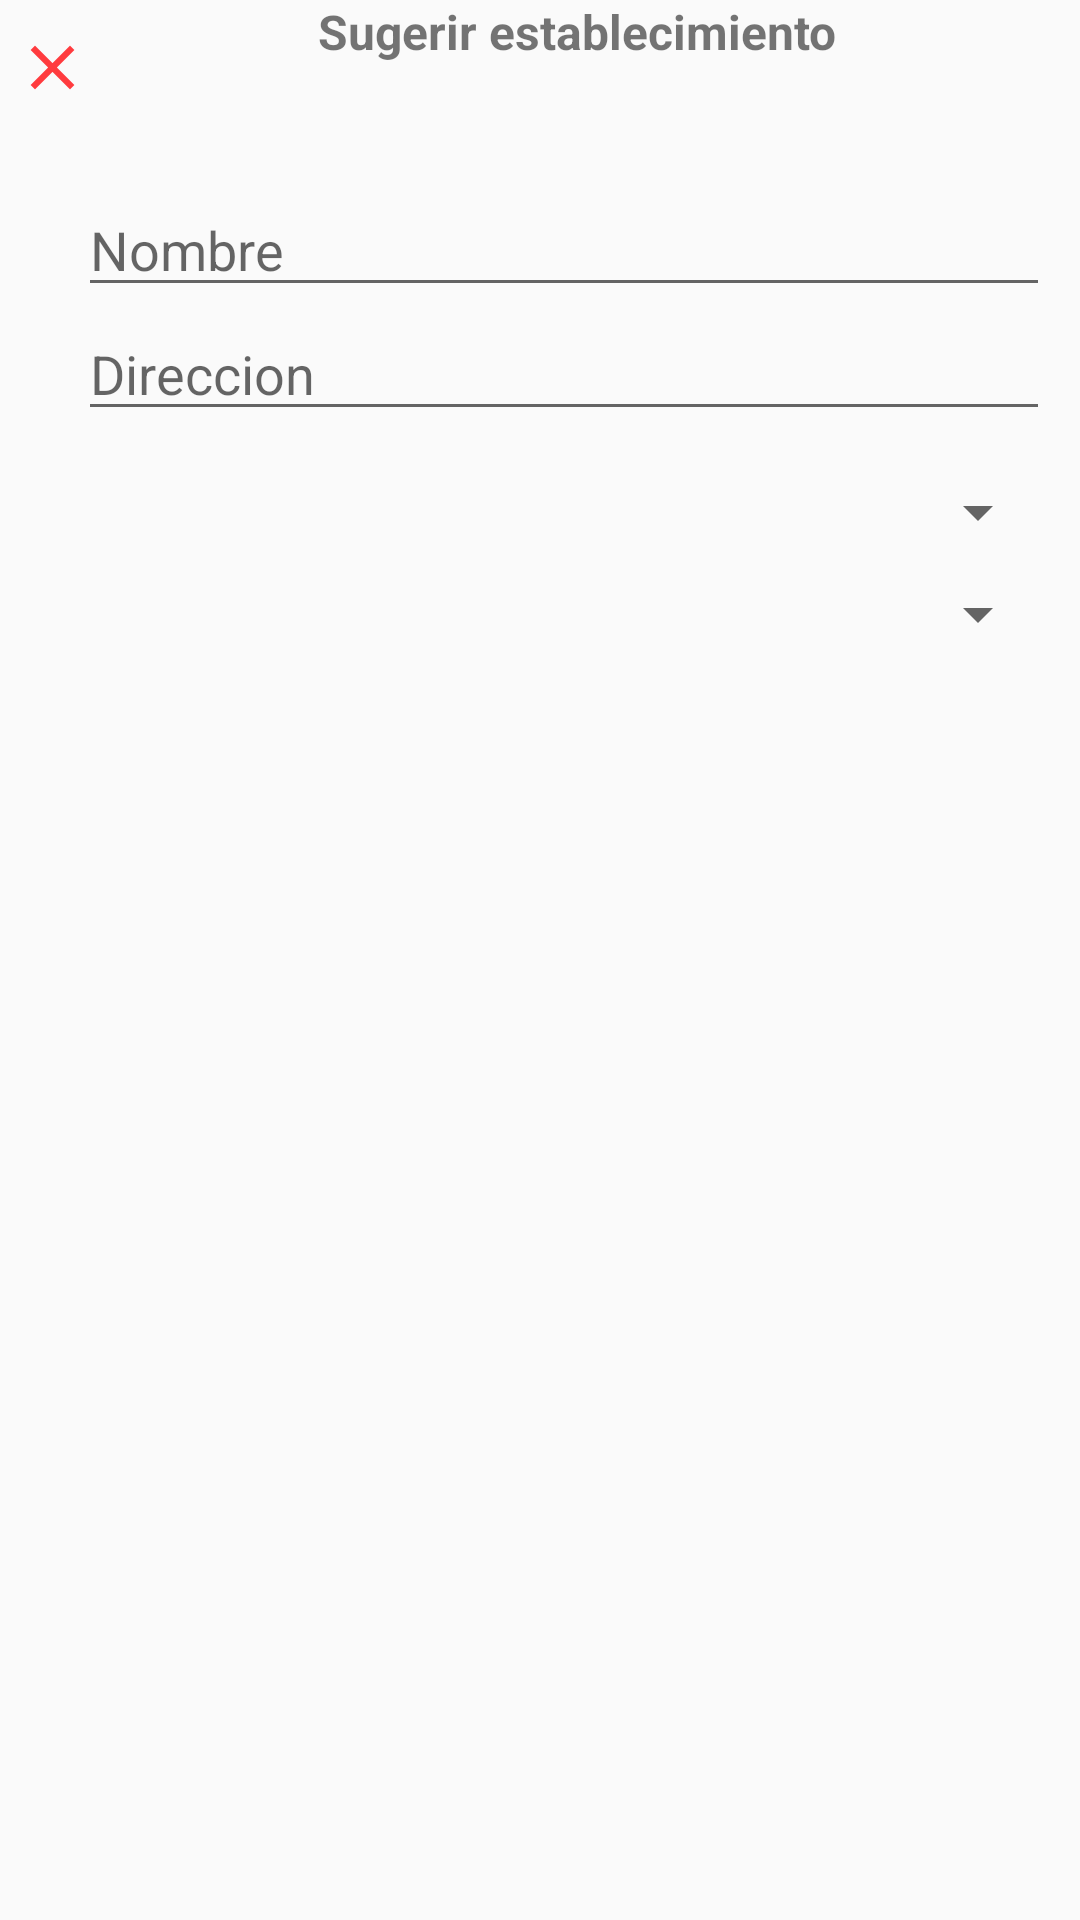

Icon bounding boxes for this 1080*1920 phone screenshot, format [left=x1, top=y1, right=x2, bottom=y2]:
close: [left=31, top=46, right=74, bottom=89]
